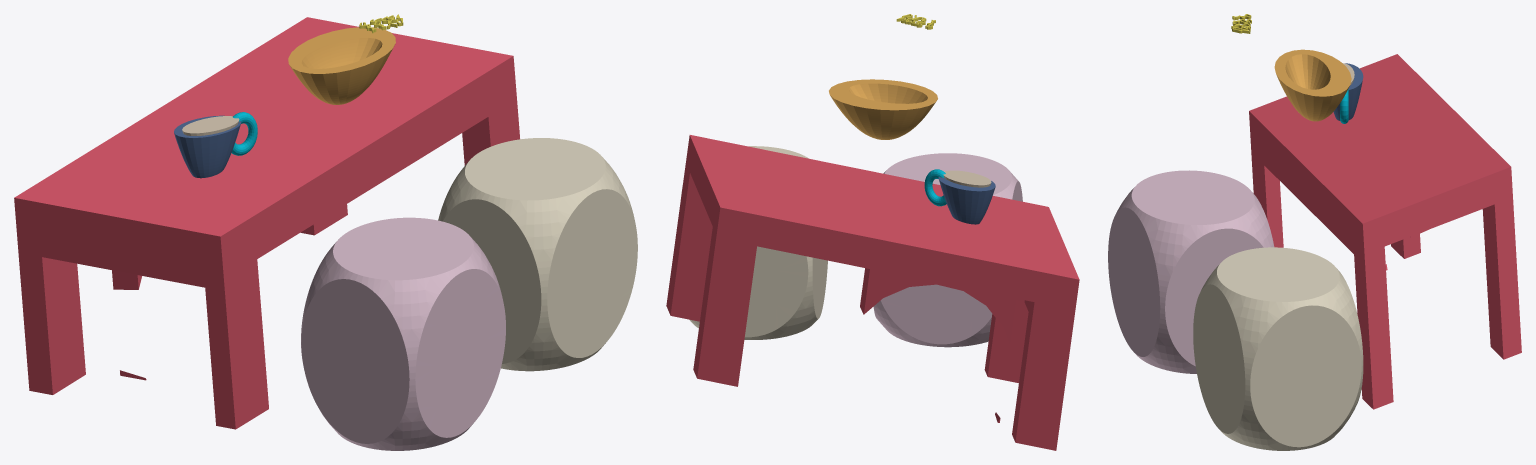
The model's file is table.glb.
3 renders of one model, left to right at view 1: azimuth 30°, elevation 25°; view 2: azimuth 150°, elevation 25°; view 3: azimuth 270°, elevation 25°, orthographic. The views are drawn at different scales.
Visible parts, largest first — view 1: Mesh_Mesh_head_geo.001_lambert2SG.001; view 2: Mesh_Mesh_head_geo.001_lambert2SG.001; view 3: Mesh_Mesh_head_geo.001_lambert2SG.001.
Part boxes in pixels (box(x1,y1,x2,y2)): Mesh_Mesh_head_geo.001_lambert2SG.001: box(14, 14, 637, 450); Mesh_Mesh_head_geo.001_lambert2SG.001: box(666, 14, 1079, 450); Mesh_Mesh_head_geo.001_lambert2SG.001: box(1108, 14, 1521, 450).
Size of the model in its own units: 185 by 125 by 141.
